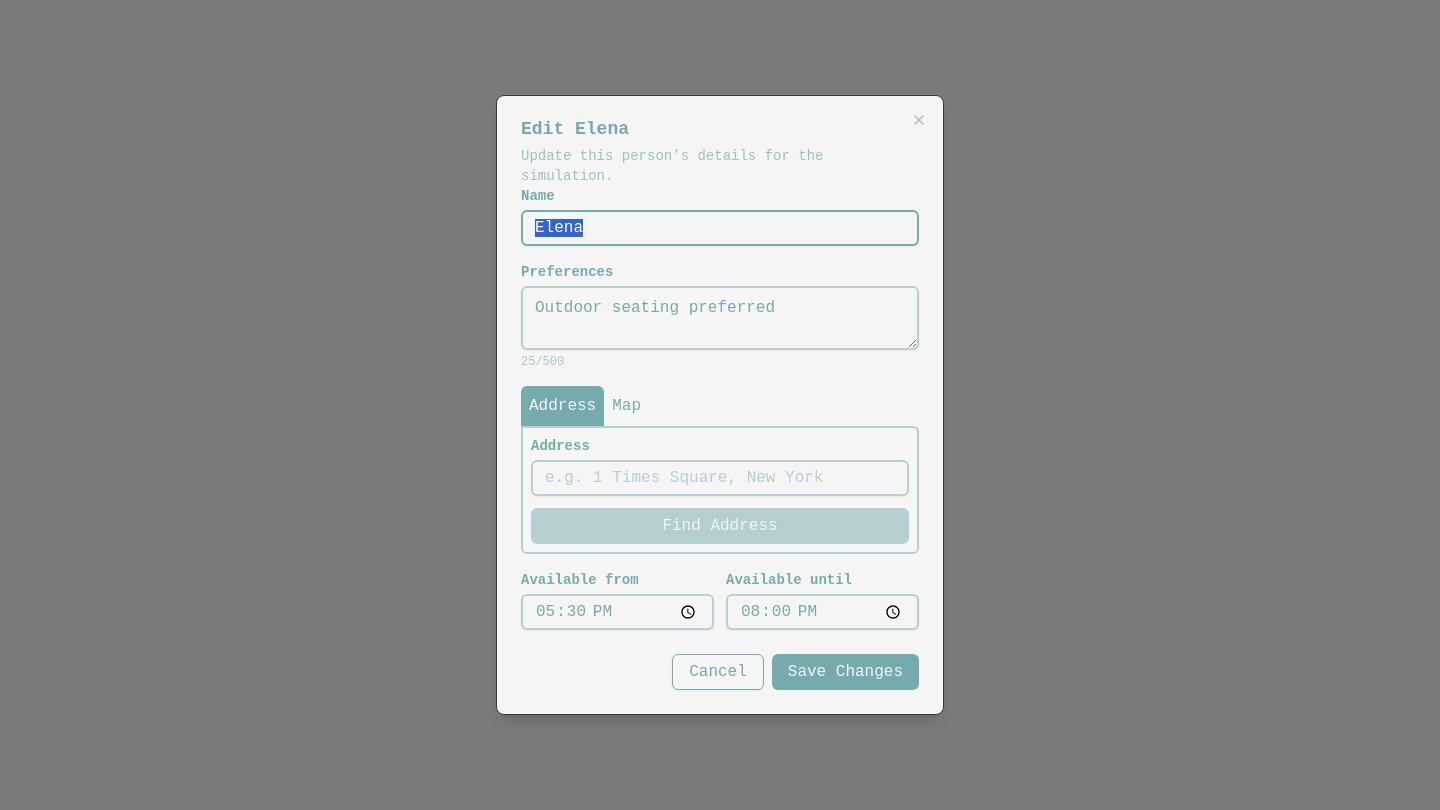
it: AddPersonDialog › rejects another existing name while editing
Replace the text in the field labelled "Name" with "Marcus" at x=720, y=228, box [521,210,919,246]
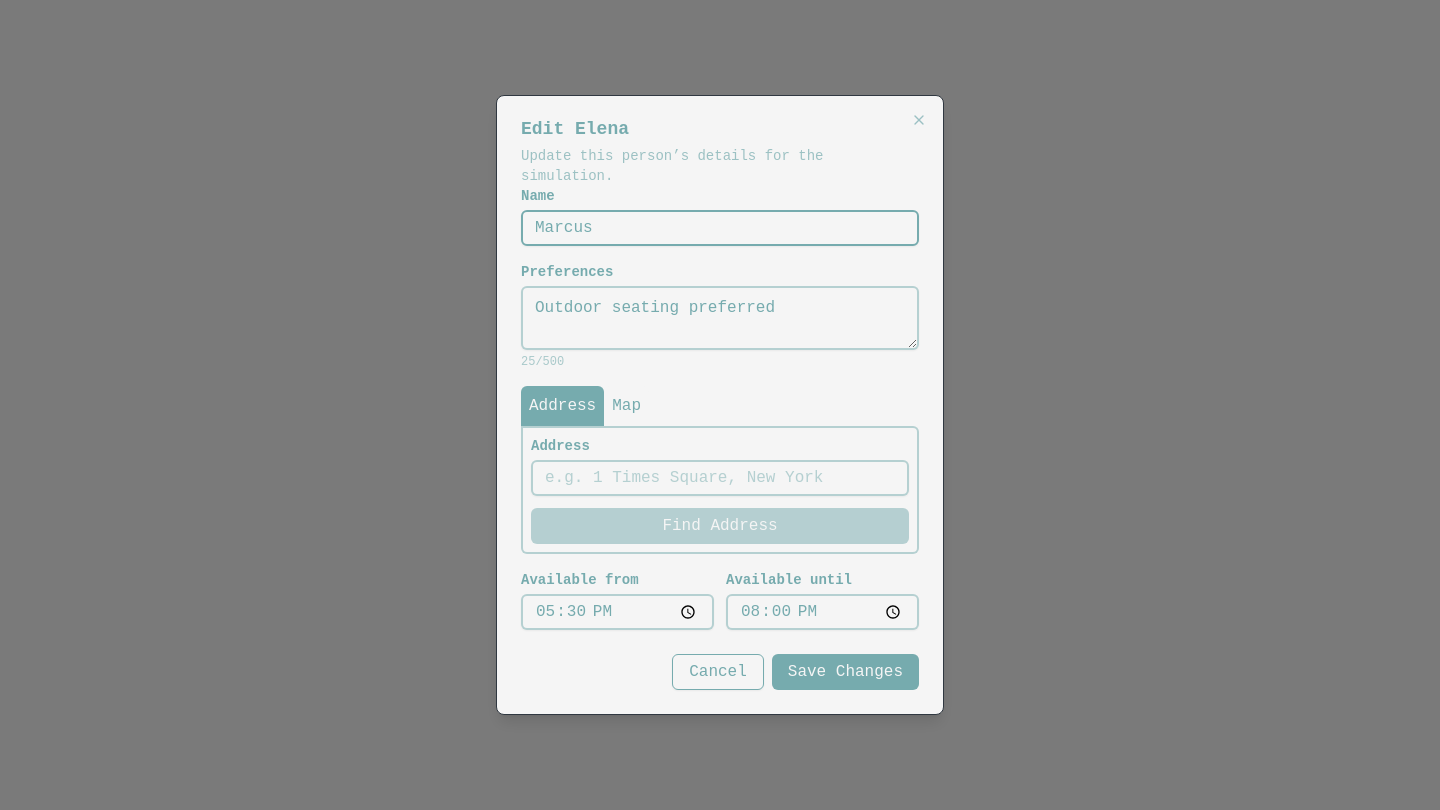
Click the button "Save Changes" at x=845, y=672, box [772,654,919,690]
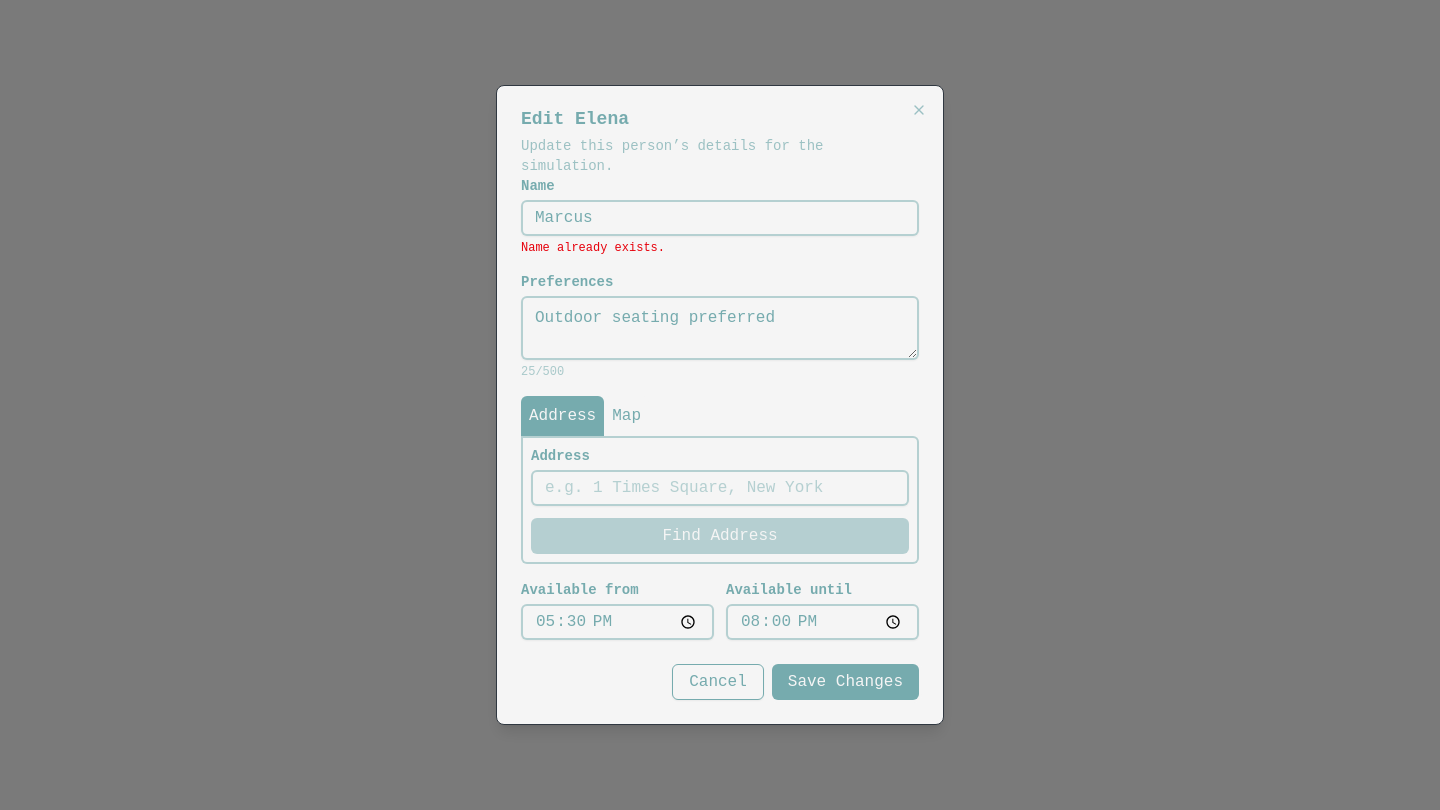
Now the message reads "Name already exists.", box [521,241,665,255]
